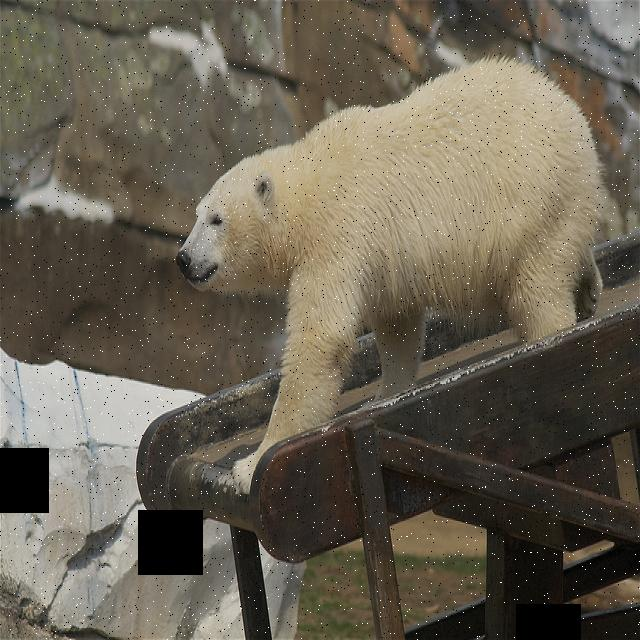Bear: (180, 42, 600, 448)
